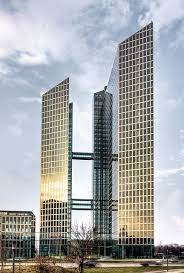high_rise_building: (88, 20, 158, 258), (35, 73, 76, 257)
